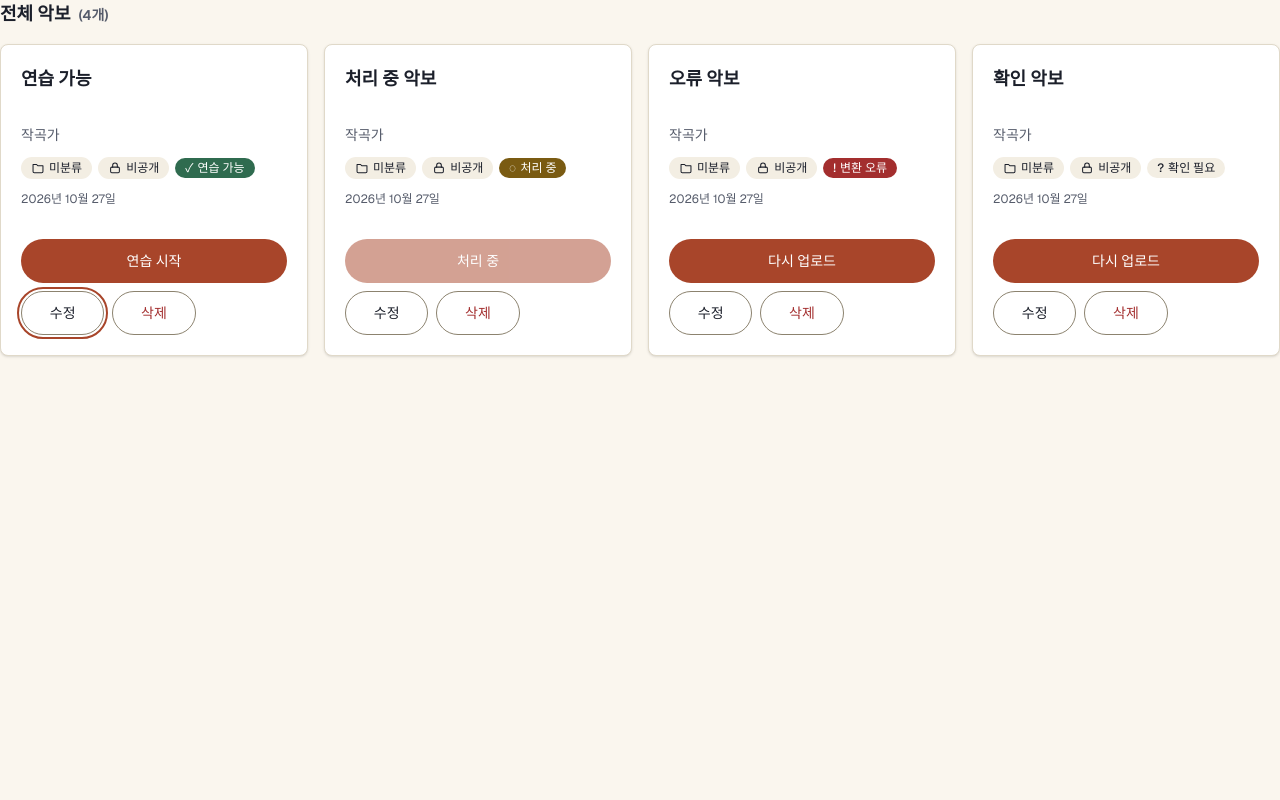
Test: LibrarySheetMusicList › returns focus to the edit action when the title editor is cancelled
This screenshot has width=1280, height=800.
Click the button with aria-label "연습 가능 제목 수정" at (63, 313), box [21, 291, 104, 335]
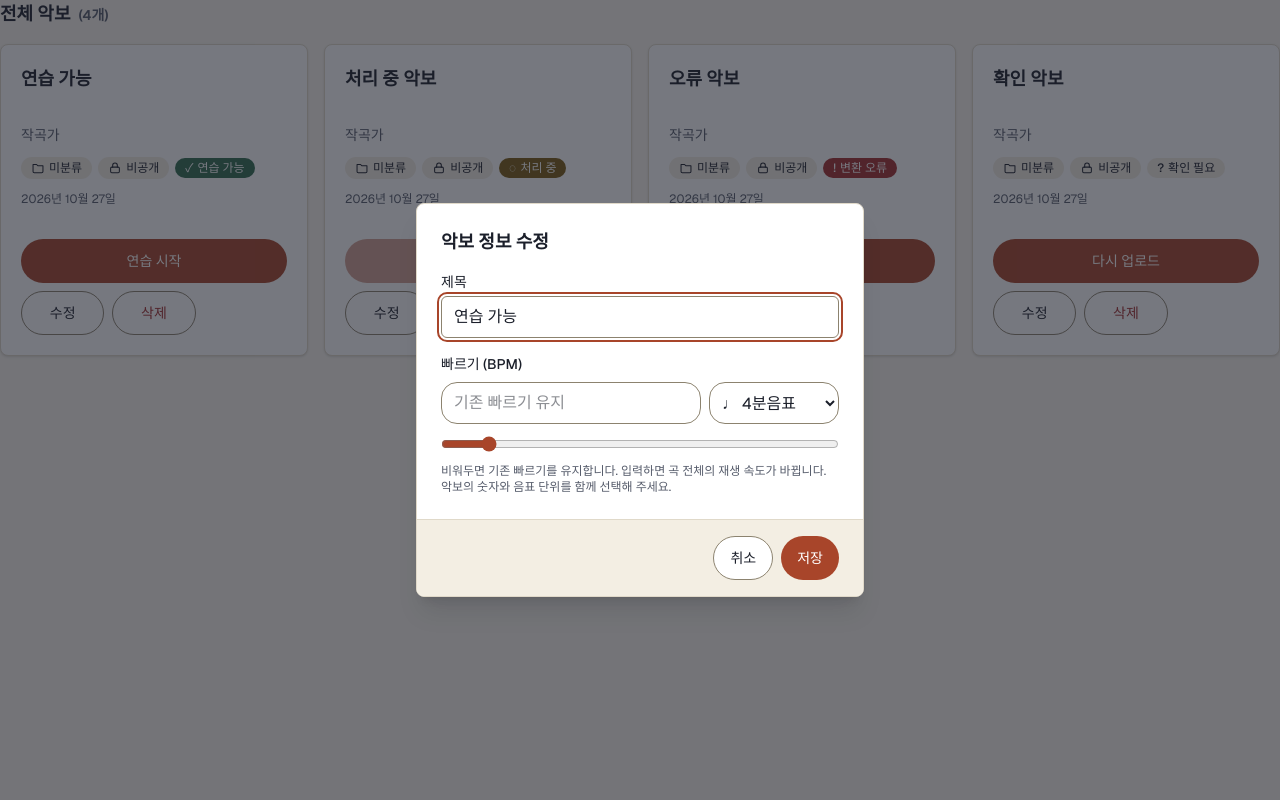
Click the button "취소" at (743, 558), box [714, 536, 773, 580]
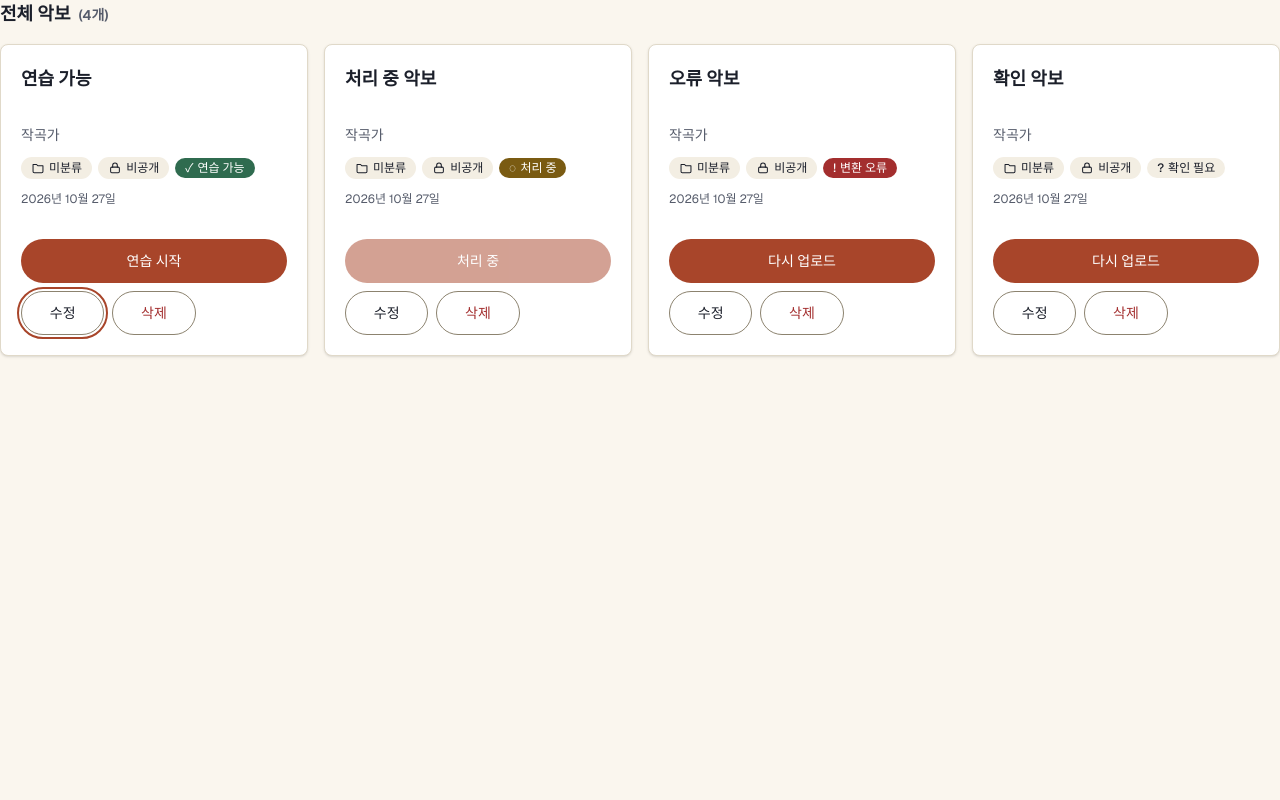
Expected: the dialog is gone
